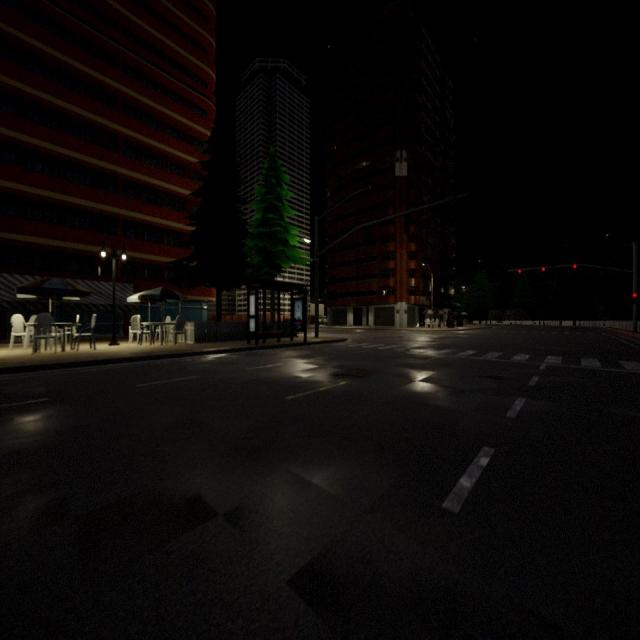traffic_light: (404, 213, 410, 234), (632, 292, 637, 304), (518, 268, 521, 278), (573, 264, 576, 273), (542, 267, 545, 275)
